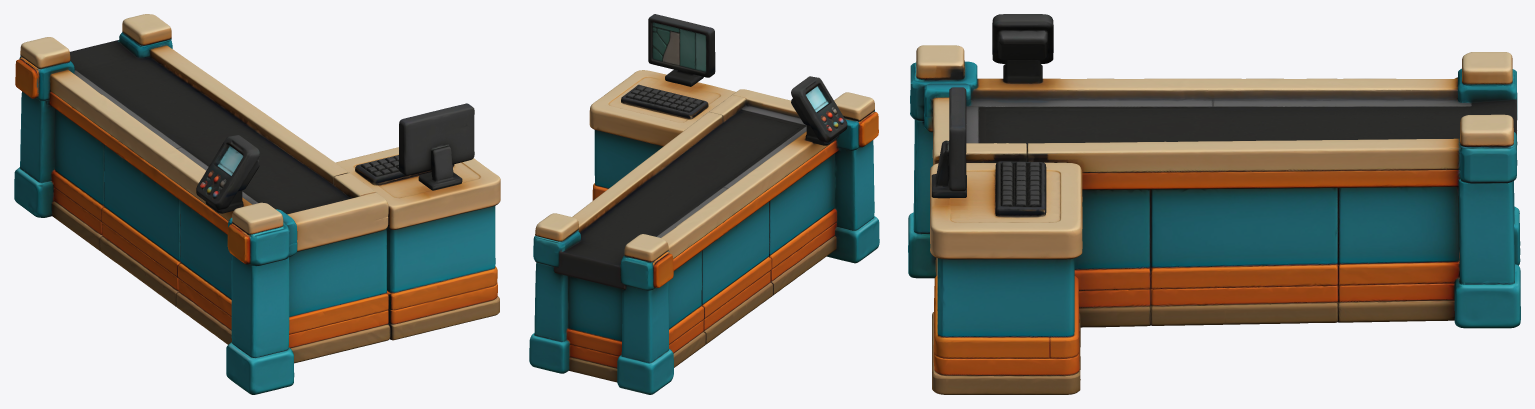
Rendered from CheckoutCounter.glb.
The picture shows the model from 3 angles, left to right: view 1: azimuth 30°, elevation 25°; view 2: azimuth 150°, elevation 25°; view 3: azimuth 270°, elevation 25°; orthographic projection. The views are drawn at different scales.
Parts seen in each view (by area): view 1: tripo_node_79d90b9b-a03b-4f13-8776-c7ba1878d521; view 2: tripo_node_79d90b9b-a03b-4f13-8776-c7ba1878d521; view 3: tripo_node_79d90b9b-a03b-4f13-8776-c7ba1878d521.
Part boxes in pixels (<box>): tripo_node_79d90b9b-a03b-4f13-8776-c7ba1878d521: <box>14,14,500,394</box>; tripo_node_79d90b9b-a03b-4f13-8776-c7ba1878d521: <box>529,14,879,394</box>; tripo_node_79d90b9b-a03b-4f13-8776-c7ba1878d521: <box>908,14,1520,394</box>.
Bounding box in the file's own units: 0.6035 × 0.4763 × 0.9808.
Materials: 1 (1 with a texture image).
